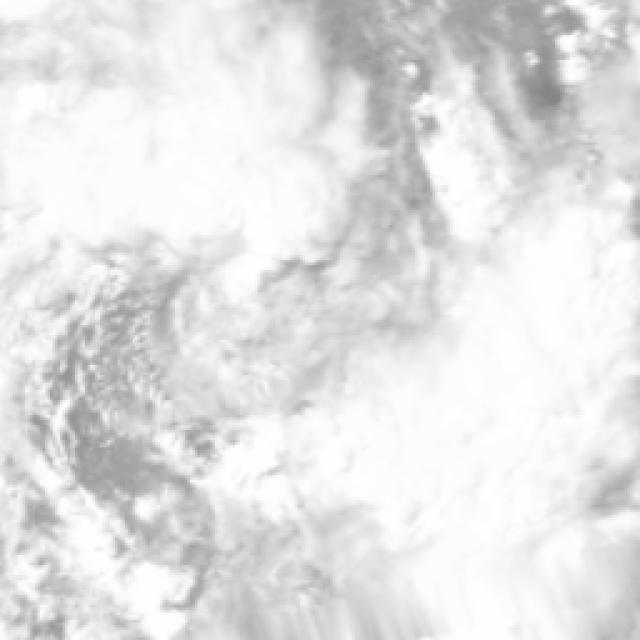CB: (75, 52, 260, 227), (444, 340, 563, 525), (513, 240, 593, 357)
